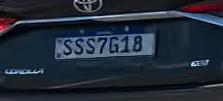Placa_mercosul_carro: (54, 22, 156, 60)
